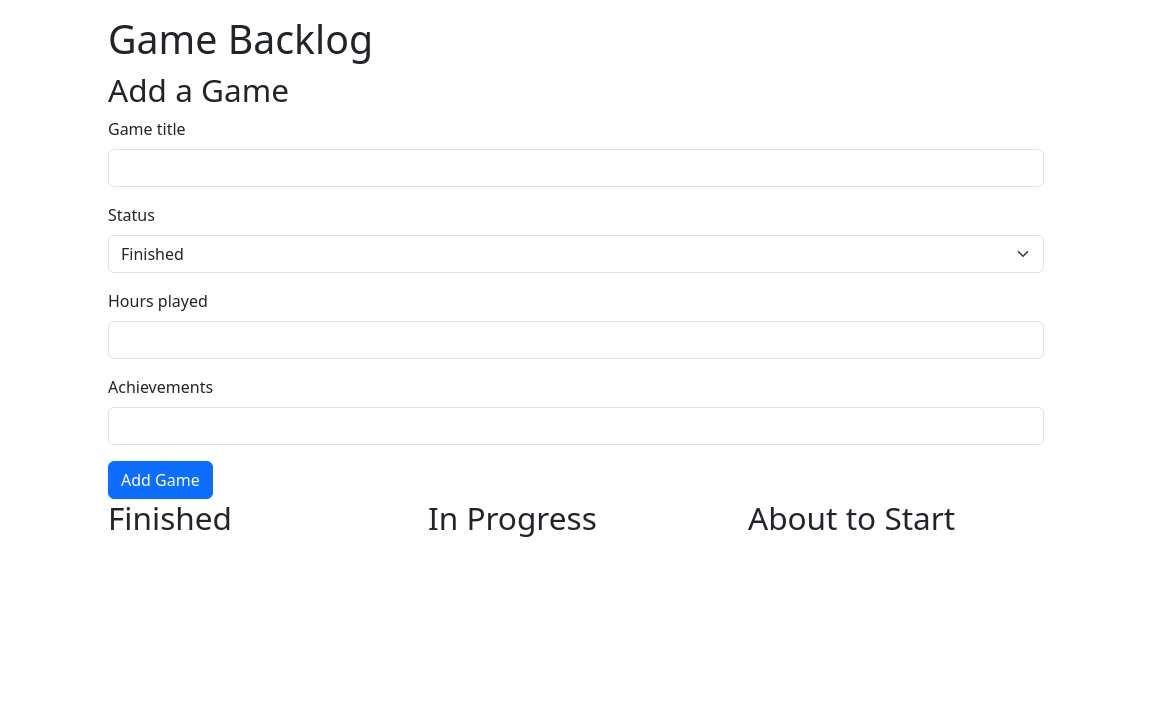
Test: shows an error when the API rejects an empty form
The width and height of the screenshot is (1152, 720).
Click the button "Add Game": [160, 480] box [108,461,213,499]
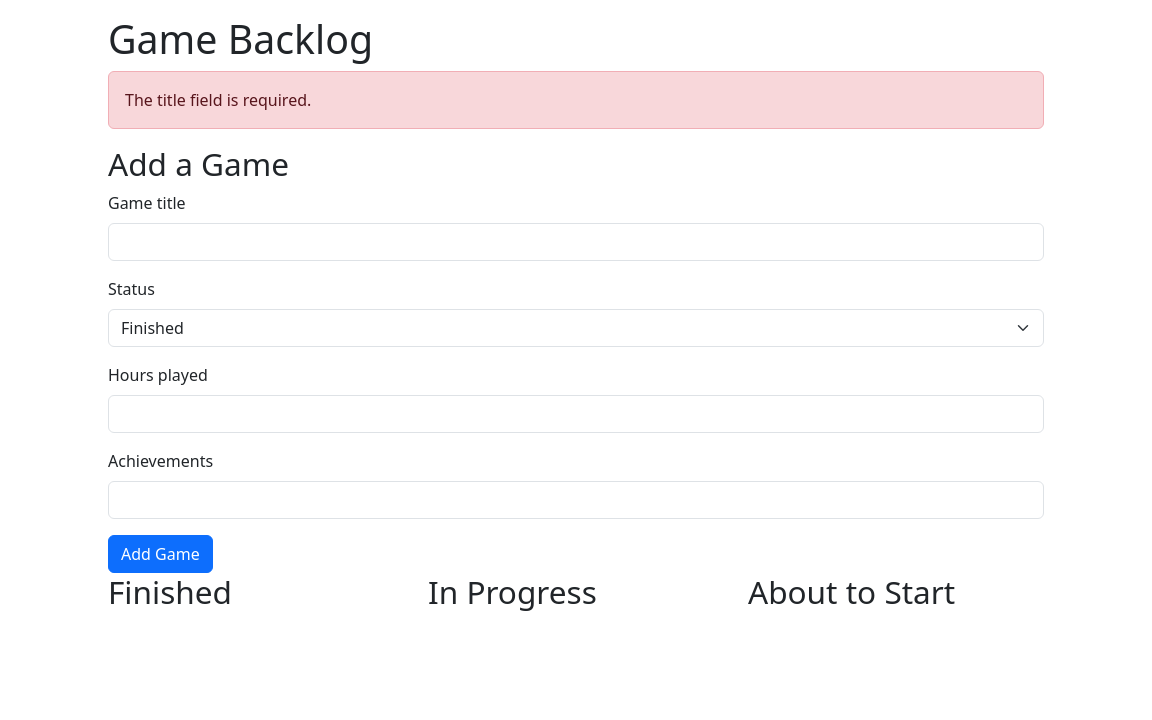
Result: the text "The title field is required." is shown at [108,71,1044,129]
